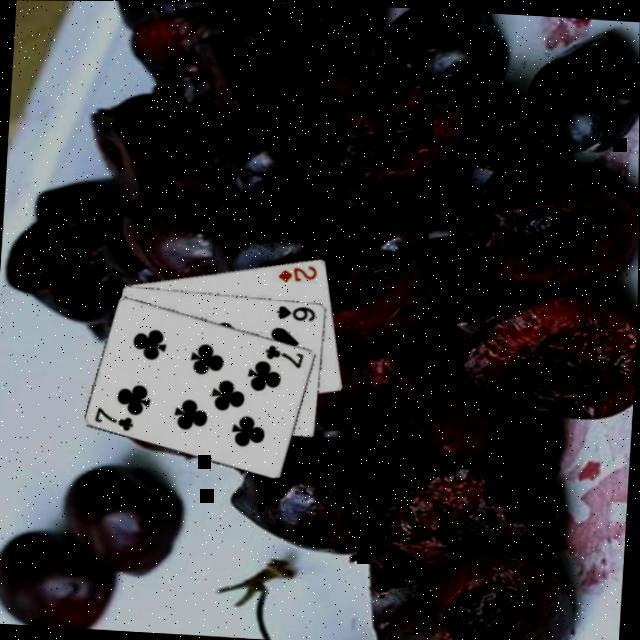2D: (275, 260, 320, 286)
6S: (272, 302, 318, 324)
7C: (262, 342, 306, 372), (91, 405, 136, 434)
